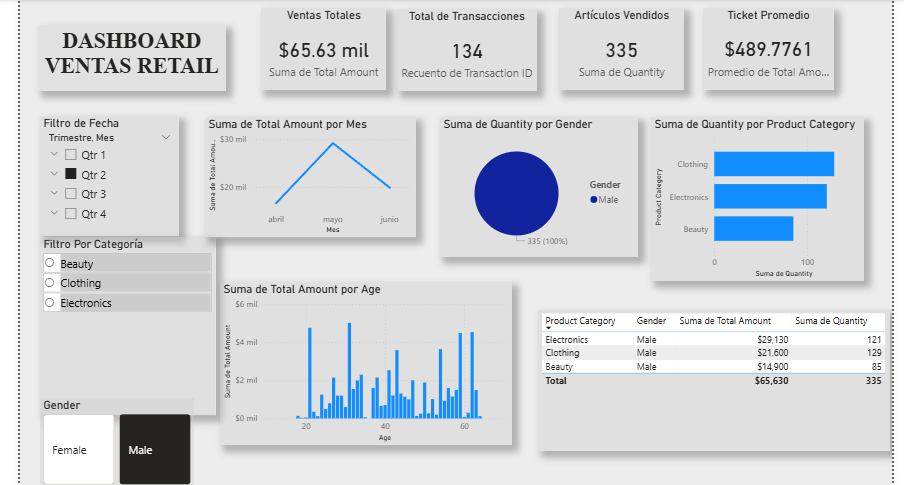

This screenshot's page, from the dashboard's own definition file:
{"tool":"powerbi","page":{"name":"Página Dashboard","canvas":[1280,720],"ordinal":0},"visuals":[{"type":"card","title":"Ventas Totales","fields":{"Values":["Sum(retail_sales_dataset.Total Amount)"]},"box":[354.5,13,184.4,121.1],"z":0},{"type":"card","title":"Total de Transacciones","fields":{"Values":["CountNonNull(retail_sales_dataset.Transaction ID)"]},"box":[554.5,14.1,205.6,121.1],"z":1000},{"type":"card","title":"Artículos Vendidos","fields":{"Values":["Sum(retail_sales_dataset.Quantity)"]},"box":[792.3,13,184.4,121.1],"z":2000},{"type":"card","title":"Ticket Promedio","fields":{"Values":["Avg(retail_sales_dataset.Total Amount)"]},"box":[1003.6,13.2,192.5,120.5],"z":3000},{"type":"slicer","title":"Filtro de Fecha","fields":{"Values":["retail_sales_dataset.Date.Variación.Jerarquía de fechas.Trimestre","retail_sales_dataset.Date.Variación.Jerarquía de fechas.Mes"]},"box":[29.4,172.5,204.4,176.7],"z":4000},{"type":"listSlicer","title":"Filtro Por Categoría","fields":{"Values":["retail_sales_dataset.Product Category"]},"box":[29.4,349.2,257.8,262.2],"z":5000},{"type":"advancedSlicerVisual","fields":{"Values":["retail_sales_dataset.Gender"]},"box":[29.4,586.9,226.3,132.2],"z":6000},{"type":"lineChart","fields":{"Category":["retail_sales_dataset.Date.Variación.Jerarquía de fechas.Mes"],"Y":["Sum(retail_sales_dataset.Total Amount)"]},"box":[272.2,173.3,310,176.7],"z":7000},{"type":"clusteredBarChart","fields":{"Category":["retail_sales_dataset.Product Category"],"Y":["Sum(retail_sales_dataset.Quantity)"]},"box":[927.2,173.4,313,241],"z":8000},{"type":"pieChart","fields":{"Category":["retail_sales_dataset.Gender"],"Y":["Sum(retail_sales_dataset.Quantity)"]},"box":[617.1,173.4,290.9,205.7],"z":9000},{"type":"clusteredColumnChart","fields":{"Category":["retail_sales_dataset.Age"],"Y":["Sum(retail_sales_dataset.Total Amount)"]},"box":[293.9,415.8,429.1,239.5],"z":10000},{"type":"tableEx","fields":{"Values":["retail_sales_dataset.Product Category","retail_sales_dataset.Gender","Sum(retail_sales_dataset.Total Amount)","Sum(retail_sales_dataset.Quantity)"]},"box":[761.1,457,517.2,207.2],"z":11000},{"type":"textbox","box":[26.7,38.9,275.6,96.7],"z":12000}]}

Visuals, with their boxes on the page's 1280x720 design canvas (x1, y1, x2, y2). These are canvas units, not pixel positions in the 904x485 screenshot, which may show the page scaled, cropped or inside an application window:
"Ventas Totales" card: left=354, top=13, right=539, bottom=134
"Total de Transacciones" card: left=554, top=14, right=760, bottom=135
"Artículos Vendidos" card: left=792, top=13, right=977, bottom=134
"Ticket Promedio" card: left=1004, top=13, right=1196, bottom=134
"Filtro de Fecha" slicer: left=29, top=172, right=234, bottom=349
"Filtro Por Categoría" listSlicer: left=29, top=349, right=287, bottom=611
advancedSlicerVisual - retail_sales_dataset.Gender: left=29, top=587, right=256, bottom=719
lineChart - retail_sales_dataset.Date.Variación.Jerarquía de fechas.Mes x Sum(retail_sales_dataset.Total Amount): left=272, top=173, right=582, bottom=350
clusteredBarChart - retail_sales_dataset.Product Category x Sum(retail_sales_dataset.Quantity): left=927, top=173, right=1240, bottom=414
pieChart - retail_sales_dataset.Gender x Sum(retail_sales_dataset.Quantity): left=617, top=173, right=908, bottom=379
clusteredColumnChart - retail_sales_dataset.Age x Sum(retail_sales_dataset.Total Amount): left=294, top=416, right=723, bottom=655
tableEx - retail_sales_dataset.Product Category x retail_sales_dataset.Gender: left=761, top=457, right=1278, bottom=664
textbox: left=27, top=39, right=302, bottom=136
